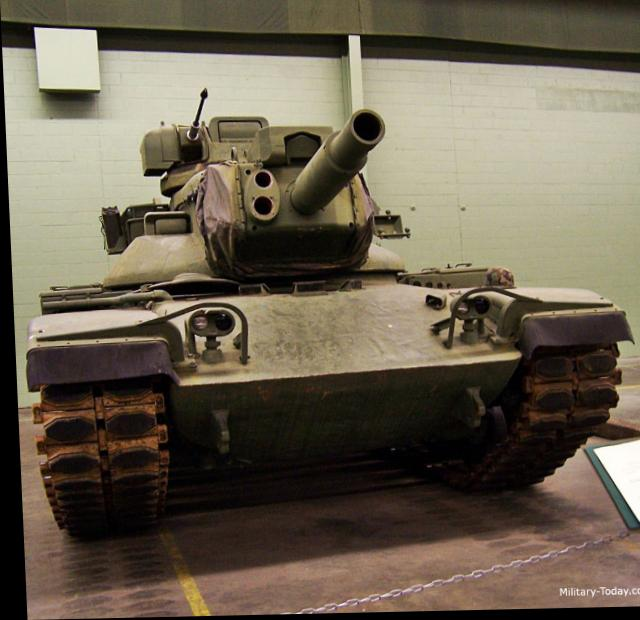tank: (9, 161, 619, 537)
